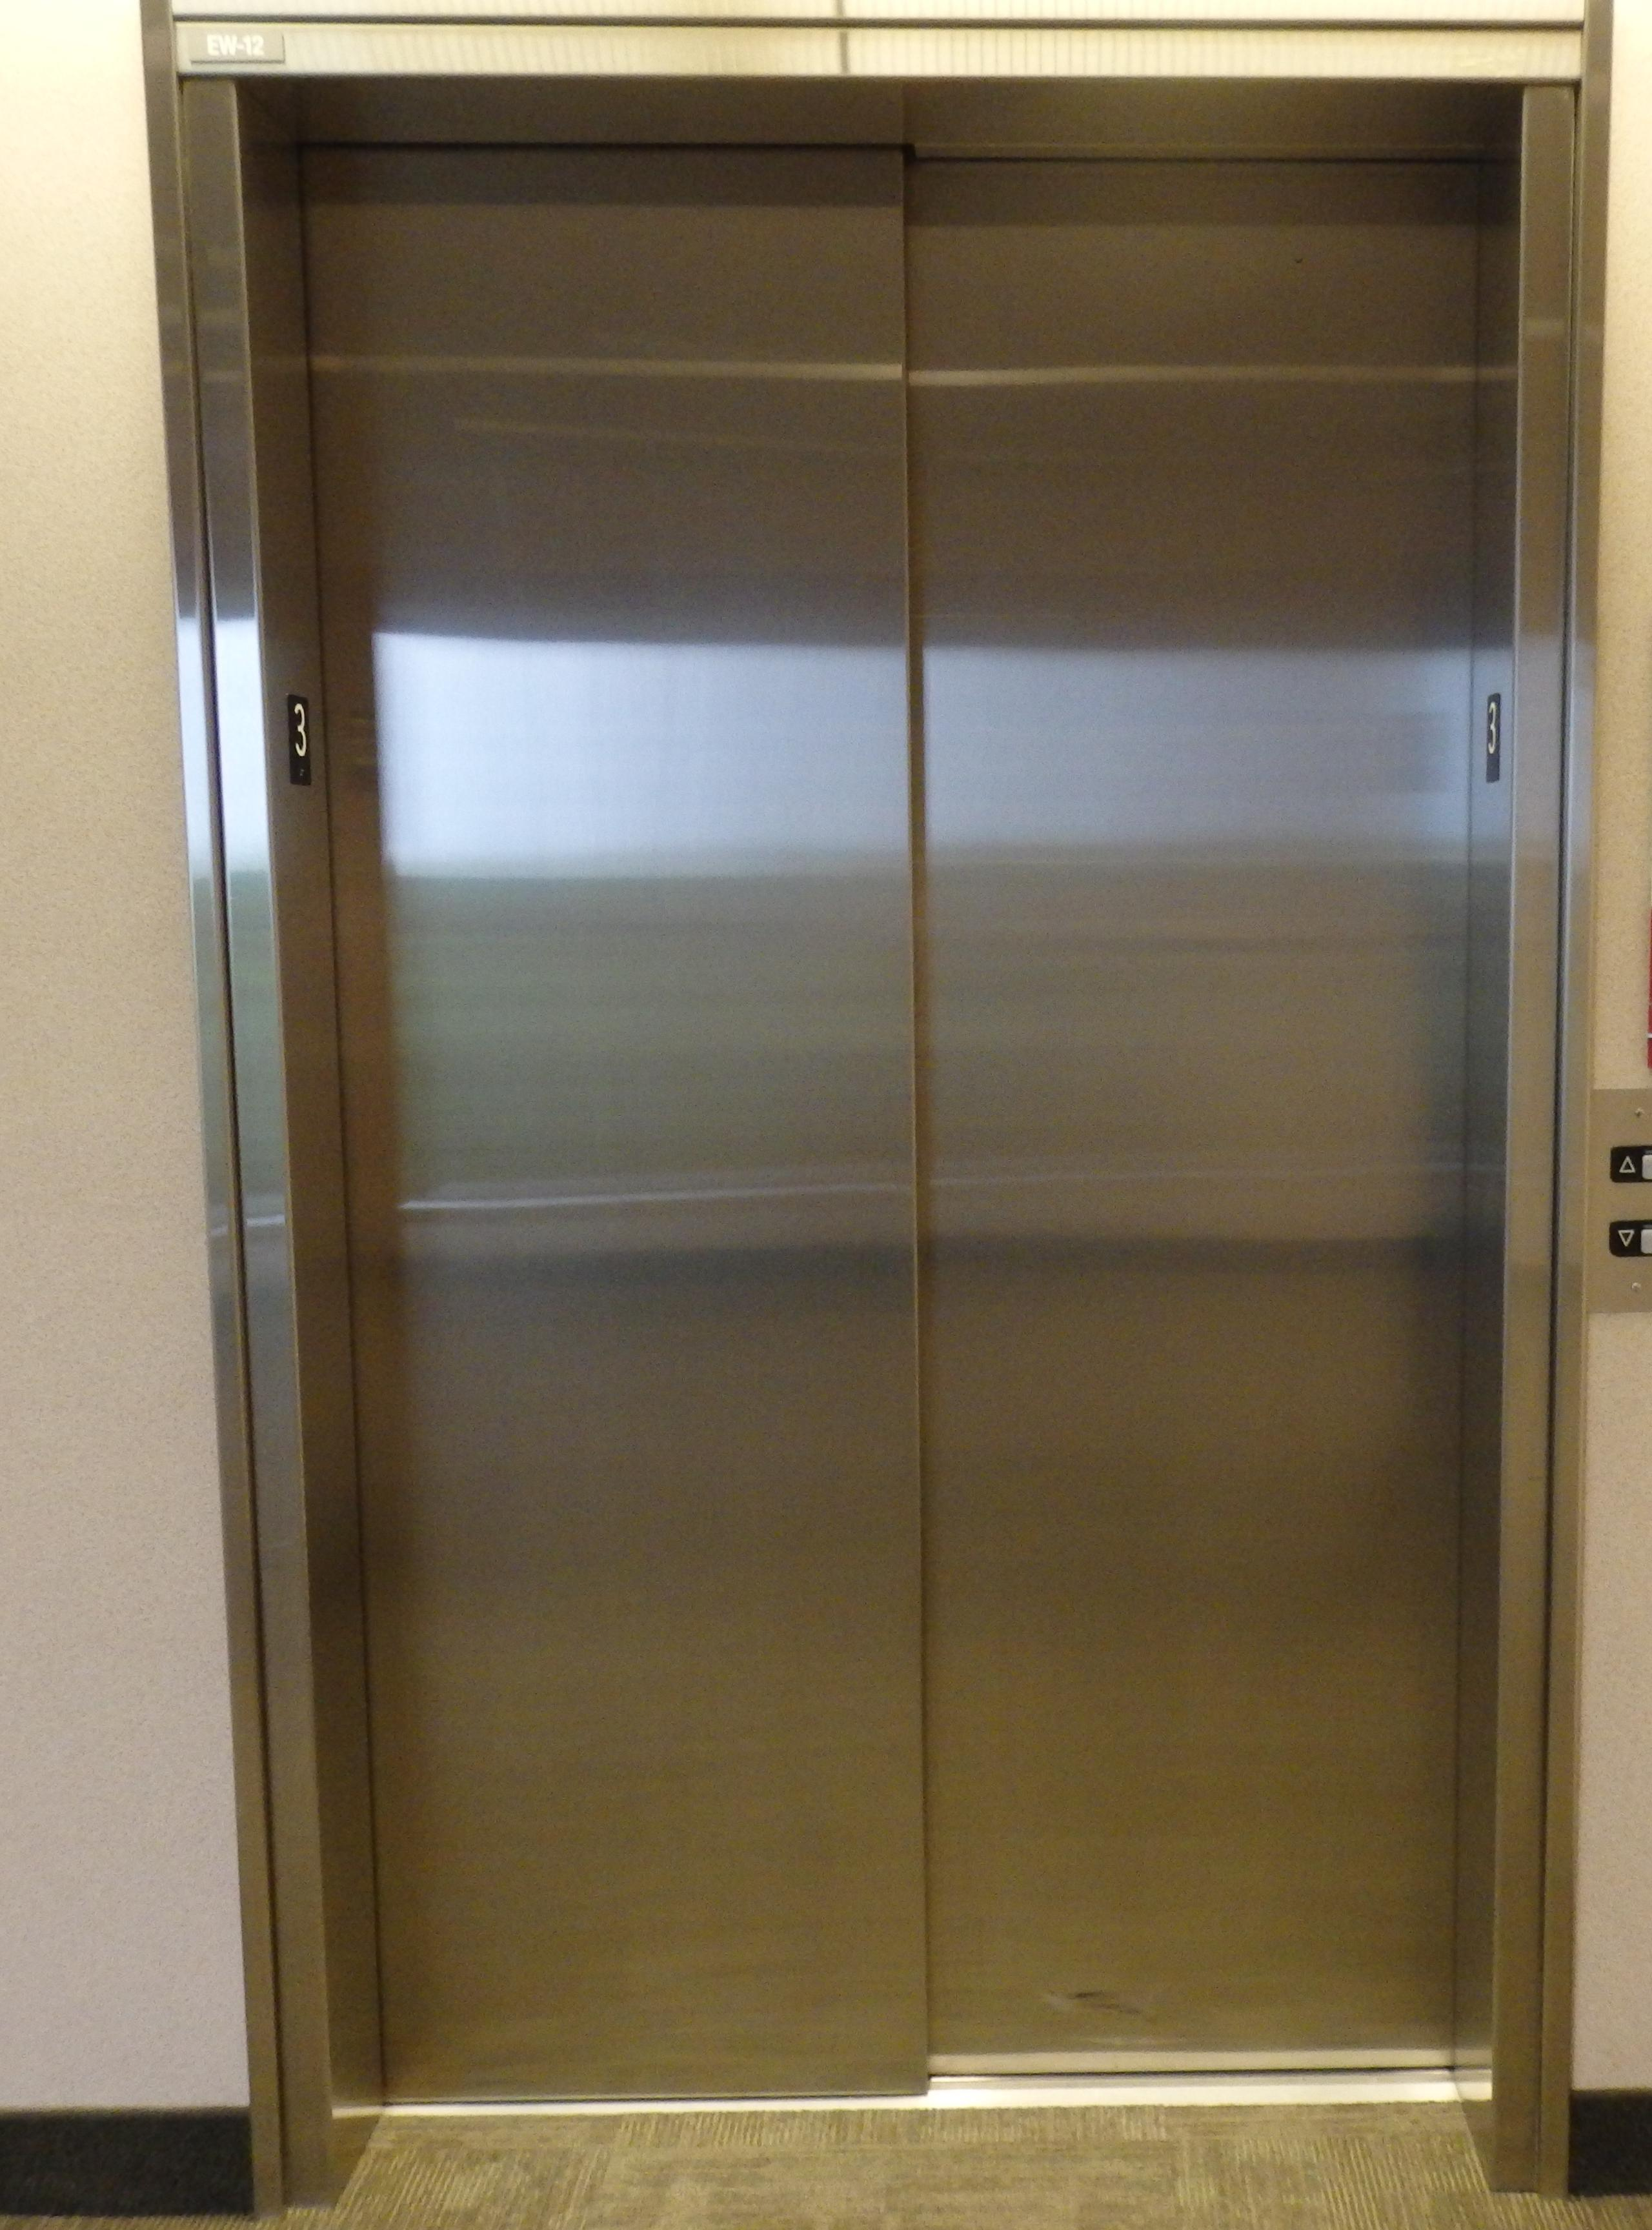door: (227, 76, 1518, 2126)
